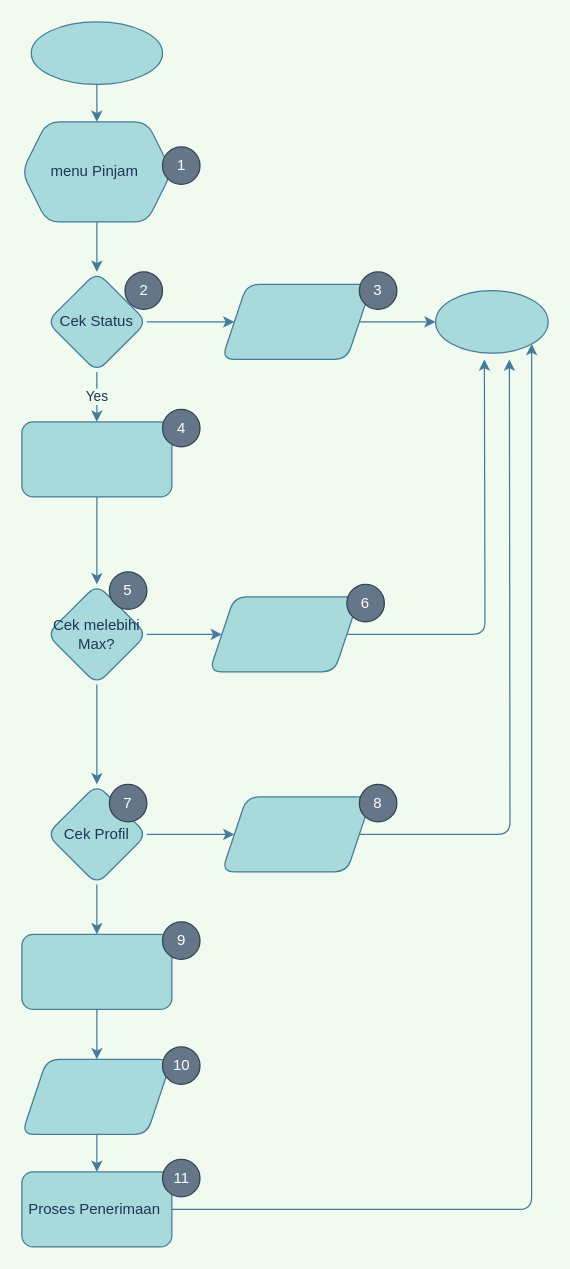
Some shapes in this 570 by 1269 pixel diagram are drawn without their labels. Each missing label, with the centre of its shape:
"Ajukan Peminjaman" belongs at point (96, 459).
"Anda tidak memiliki saldo peminjaman" belongs at point (296, 321).
"Mohon lengkapi profil anda terlebih dahulu" belongs at point (296, 834).
"Nilai tersebut melebihi max pinjaman anda" belongs at point (283, 634).
"Proses Pemberian Peminjaman" belongs at point (96, 971).
"Proses Peminjaman anda di setujui" belongs at point (96, 1096).
"Start" belongs at point (96, 52).
"Stop" belongs at point (491, 321).
